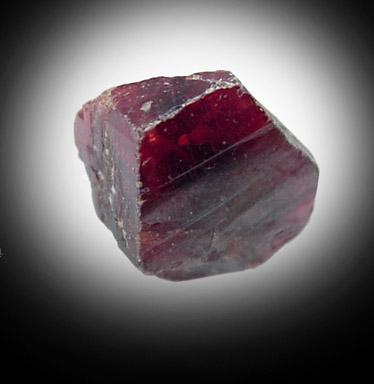tantalite: (75, 71, 319, 280)
